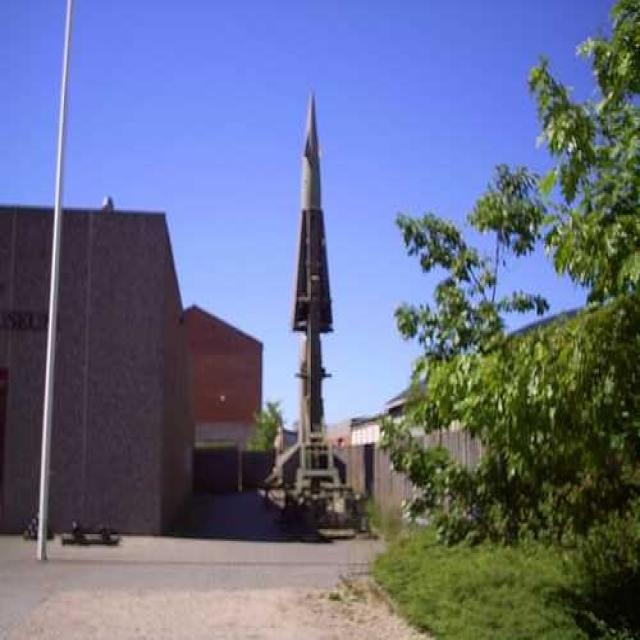missile: (286, 88, 338, 334)
